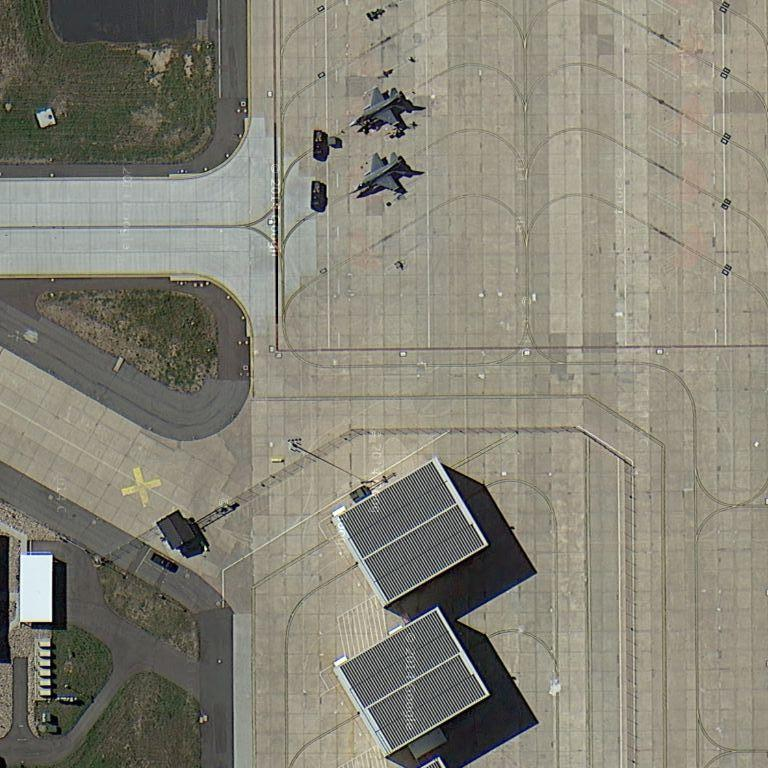F-16: (351, 147, 413, 202), (347, 81, 410, 134)
